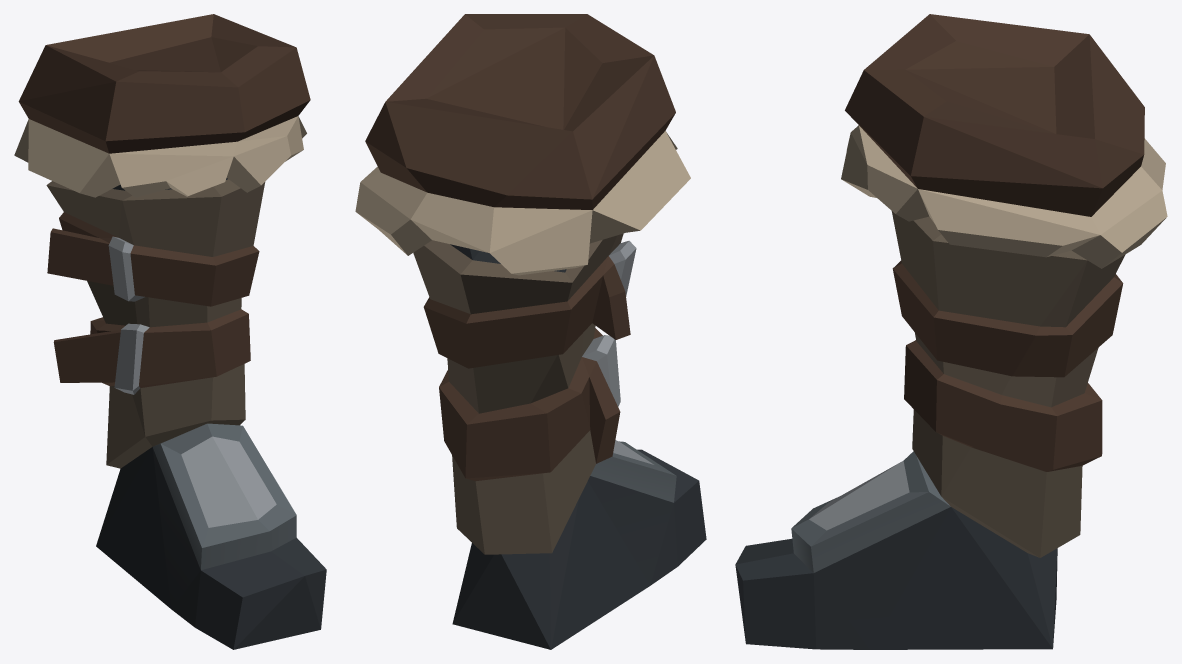
The model's file is Chr_LegRight_Female_09_Static.fbx.
3 renders of one model, left to right at view 1: azimuth 30°, elevation 25°; view 2: azimuth 150°, elevation 25°; view 3: azimuth 270°, elevation 25°, orthographic. The views are drawn at different scales.
Parts seen in each view (by area): view 1: Chr_LegRight_Female_09_Static; view 2: Chr_LegRight_Female_09_Static; view 3: Chr_LegRight_Female_09_Static.
Part boxes in pixels (<box>): Chr_LegRight_Female_09_Static: <box>14,14,326,649</box>; Chr_LegRight_Female_09_Static: <box>355,14,706,649</box>; Chr_LegRight_Female_09_Static: <box>735,14,1167,649</box>.
Bounding box in the file's own units: 0.19 × 0.4033 × 0.2794.
